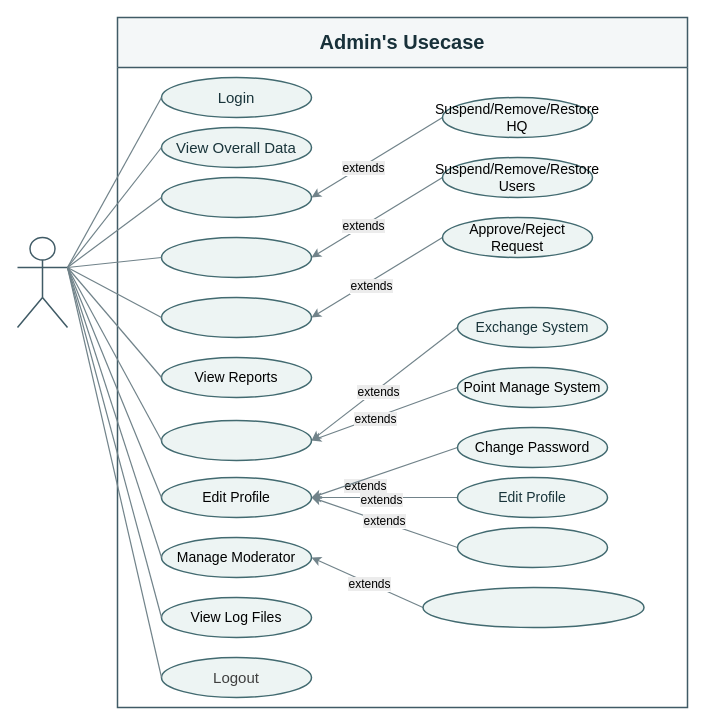
This 706x726 diagram has some shape labels left out. The shapes that lost their labels are listed below. From the top down, each one's centre as x and y in pixels, then its label:
the point at 236,197: View/Manage HQ
the point at 236,257: View/Manage Users
the point at 42,282: Admin
the point at 236,317: View Requests
the point at 236,440: Loyalty & Billing
the point at 532,547: Change to Customer account
the point at 533,607: Approved/Suspended/Removed Moderator's Accounts
